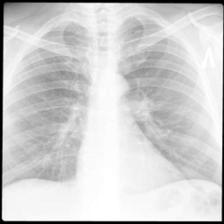tuberculosis: (4, 11, 222, 199)
